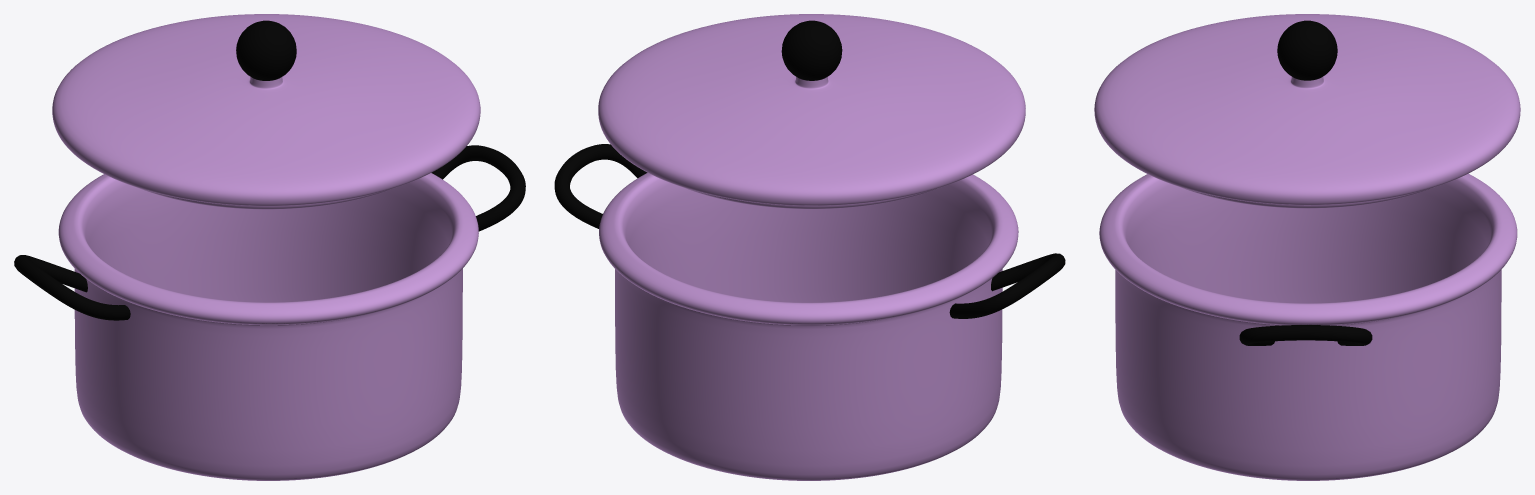
The model's file is pot.glb.
The picture shows the model from 3 angles, left to right: view 1: azimuth 30°, elevation 25°; view 2: azimuth 150°, elevation 25°; view 3: azimuth 270°, elevation 25°; orthographic projection.
Visible parts, largest first — view 1: Cylinder, Cylinder.001, NurbsPath, Sphere; view 2: Cylinder, Cylinder.001, NurbsPath, Sphere; view 3: Cylinder, Cylinder.001, Sphere, NurbsPath.
Part boxes in pixels (x1=…): Cylinder: x1=58, y1=173, x2=478, y2=480; Cylinder.001: x1=52, y1=14, x2=480, y2=209; NurbsPath: x1=14, y1=145, x2=525, y2=320; Sphere: x1=236, y1=20, x2=296, y2=80; Cylinder: x1=599, y1=172, x2=1018, y2=480; Cylinder.001: x1=598, y1=14, x2=1025, y2=208; NurbsPath: x1=554, y1=144, x2=1065, y2=318; Sphere: x1=781, y1=20, x2=842, y2=80; Cylinder: x1=1099, y1=173, x2=1517, y2=480; Cylinder.001: x1=1094, y1=14, x2=1520, y2=208; Sphere: x1=1277, y1=20, x2=1337, y2=80; NurbsPath: x1=1239, y1=325, x2=1372, y2=345.
Bounding box in the file's own units: 2.83 × 2.16 × 2.19.
